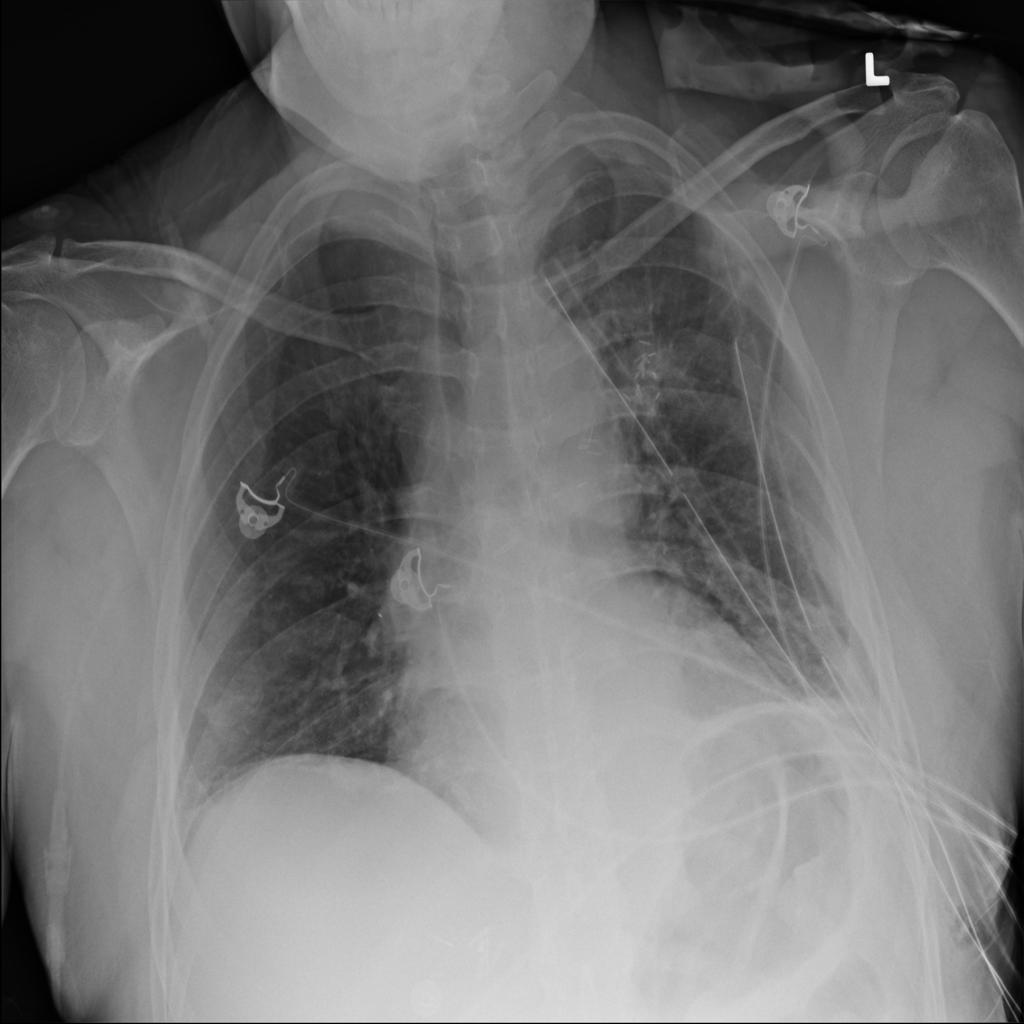nodule: (192, 676, 267, 753), (284, 558, 335, 610)
